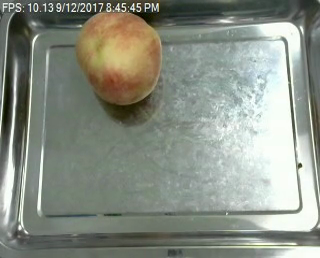Peach: (76, 8, 162, 104)
